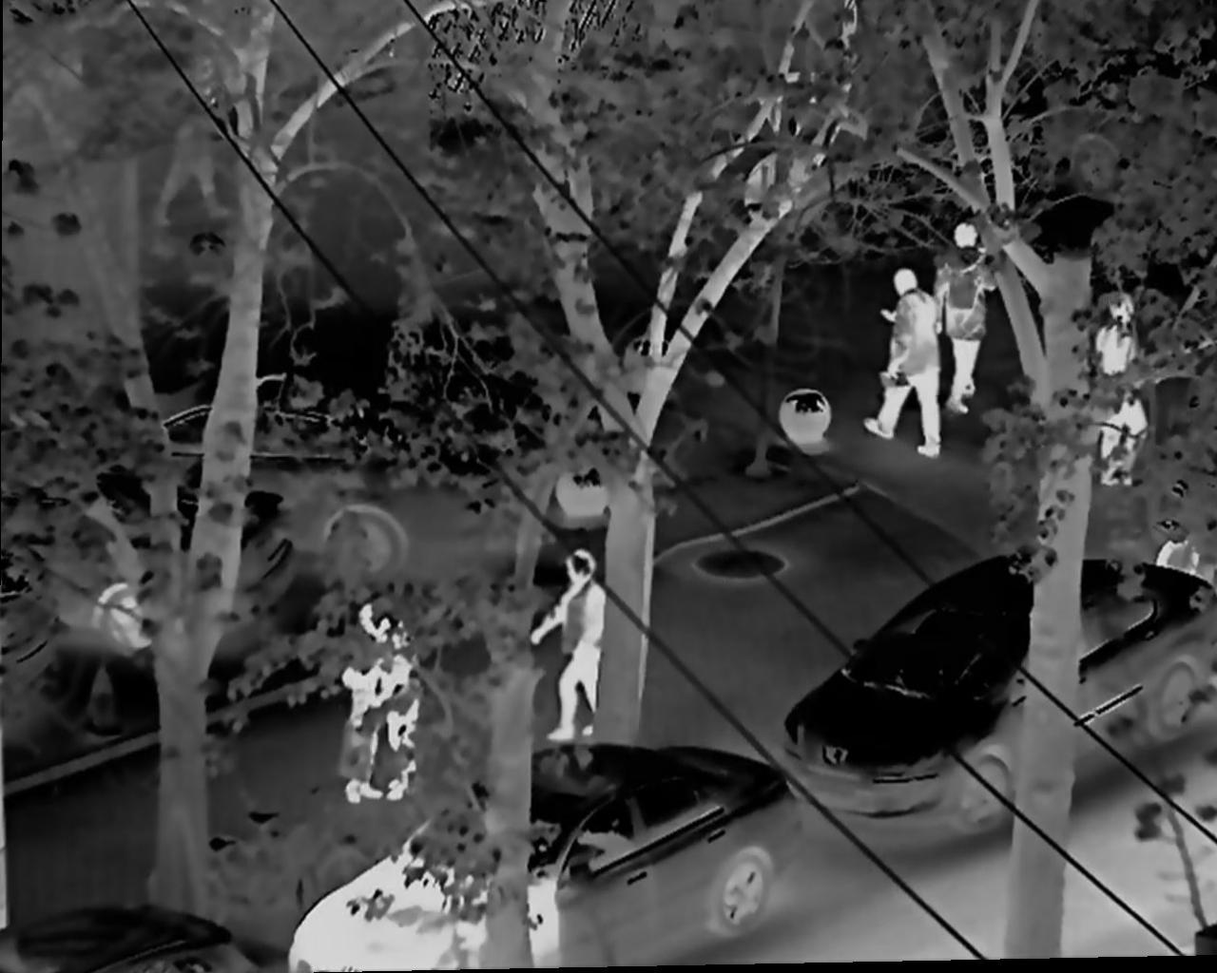person: (866, 268, 948, 475), (341, 601, 422, 806), (533, 544, 613, 737), (1087, 293, 1147, 488), (937, 220, 998, 410)
